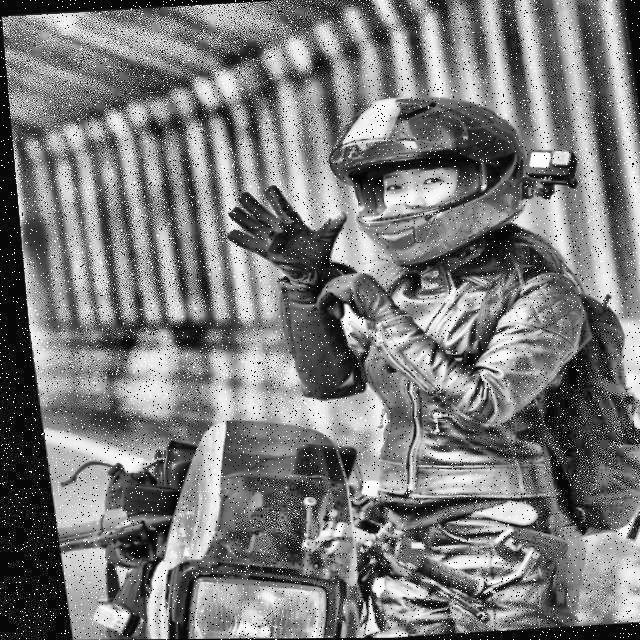Helmet: (310, 85, 538, 276)
